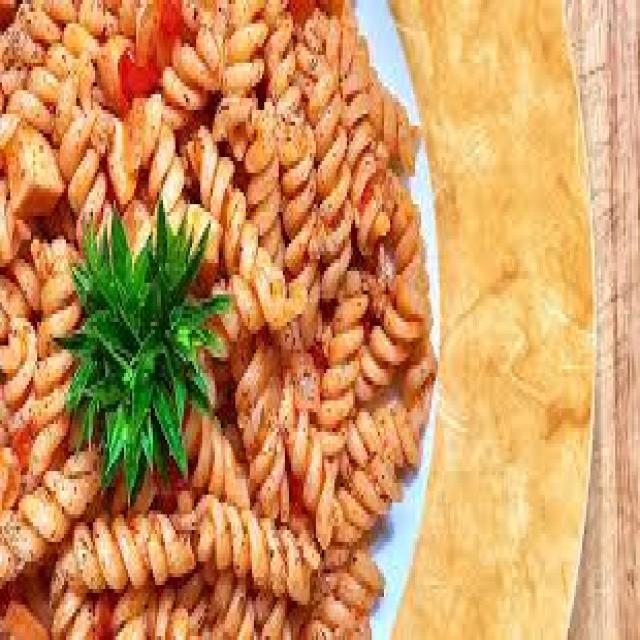pasta: (48, 32, 437, 574)
